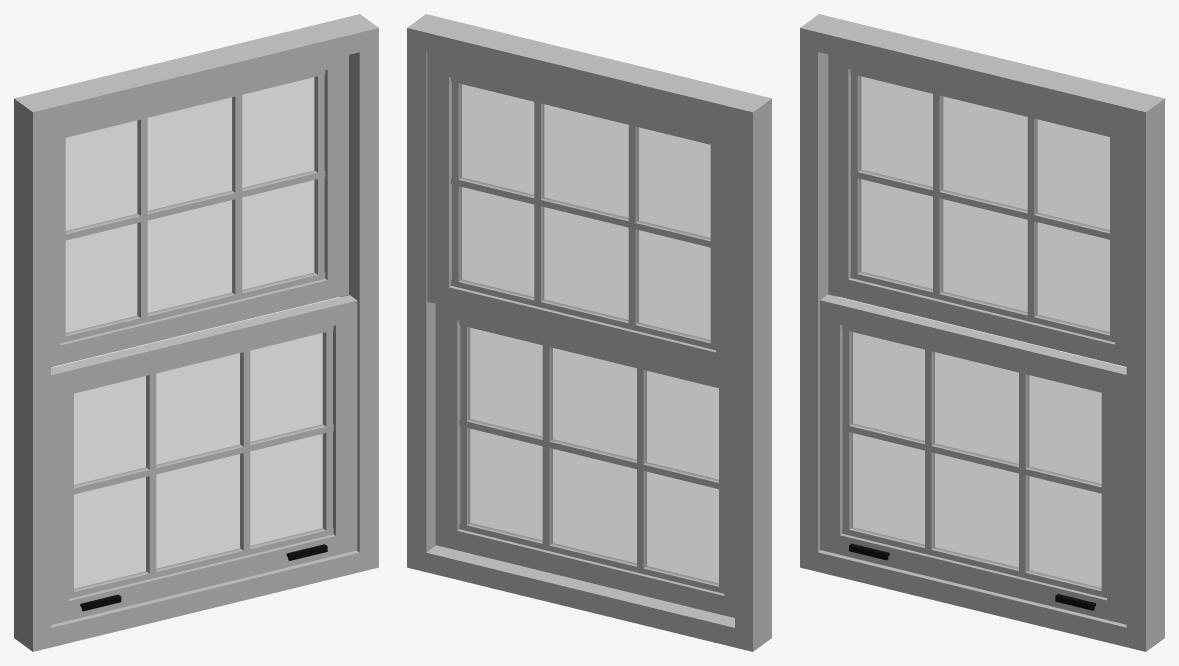
The model's file is Window.FBX.
3 views of the same model, side by side, from view 1: azimuth 30°, elevation 25°; view 2: azimuth 150°, elevation 25°; view 3: azimuth 330°, elevation 25° (orthographic).
Visible parts, largest first — view 1: window B, window A, window frame; view 2: window A, window B, window frame; view 3: window B, window A, window frame.
Boxes of the visible parts, left/top/right/bottom form: window B: left=51, top=295, right=357, bottom=624; window A: left=51, top=55, right=348, bottom=367; window frame: left=14, top=14, right=378, bottom=651; window A: left=427, top=52, right=734, bottom=376; window B: left=435, top=304, right=734, bottom=617; window frame: left=407, top=14, right=771, bottom=651; window B: left=820, top=294, right=1126, bottom=624; window A: left=828, top=54, right=1126, bottom=366; window frame: left=800, top=14, right=1164, bottom=651.
Size of the model in its own units: 84.12 by 125 by 8.29.
